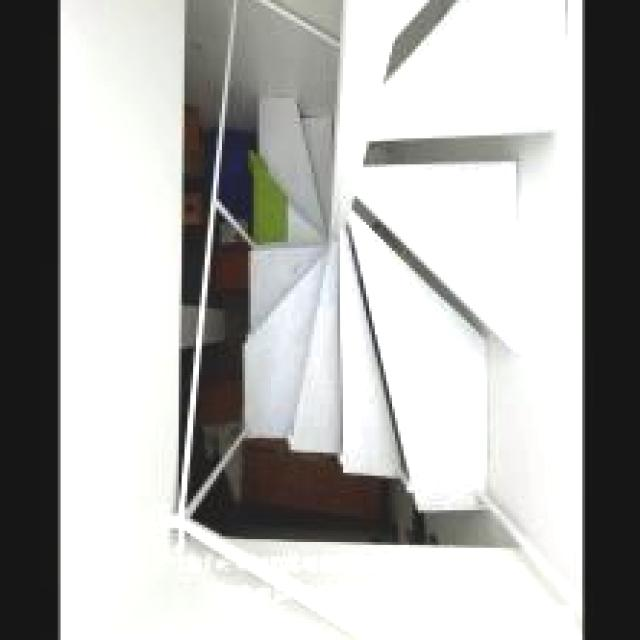downstair: (240, 240, 442, 488)
